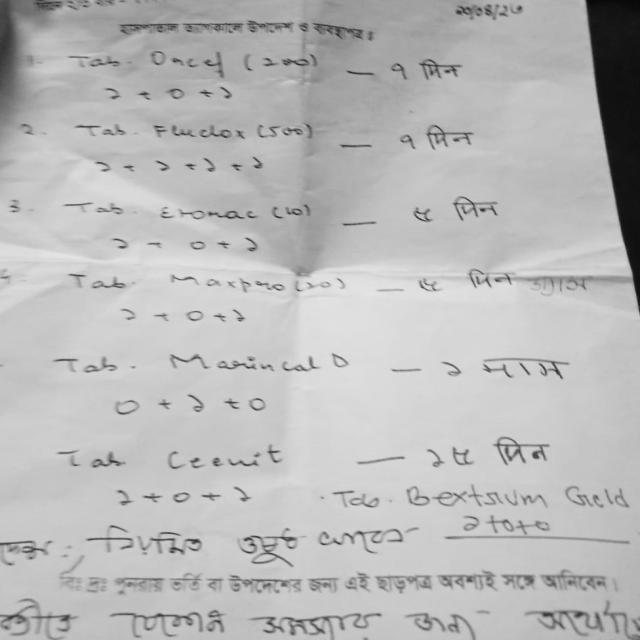medicine: (156, 339, 355, 392), (155, 434, 298, 482), (162, 264, 294, 306), (153, 192, 262, 232), (144, 116, 254, 150), (146, 42, 234, 81)
